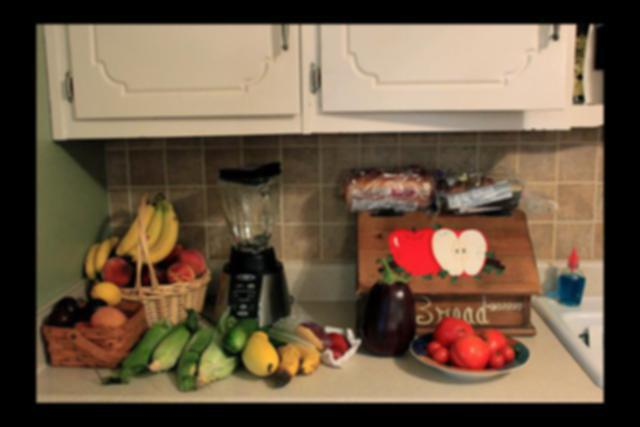Lavaplatos: (541, 275, 603, 393)
